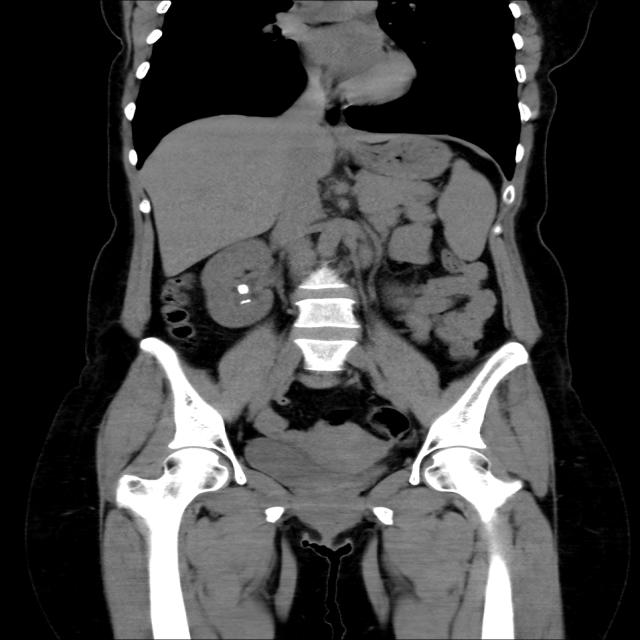kidneystone: (236, 284, 250, 294), (239, 298, 252, 305)
